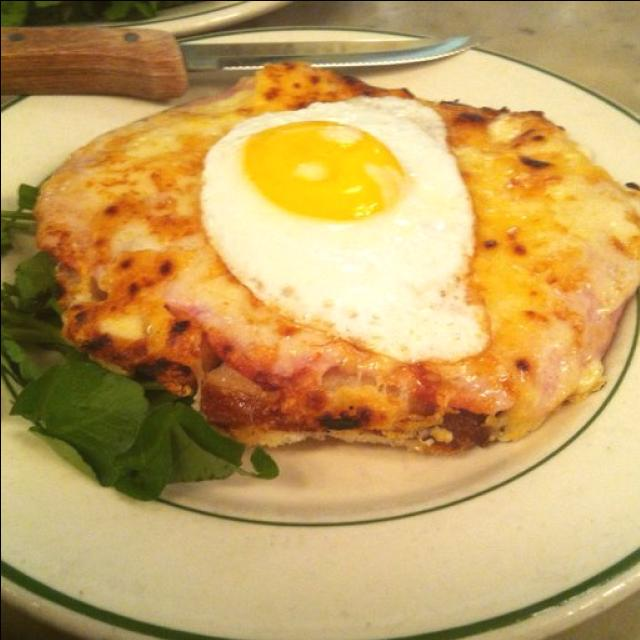telur ceplok: (190, 95, 475, 351)
